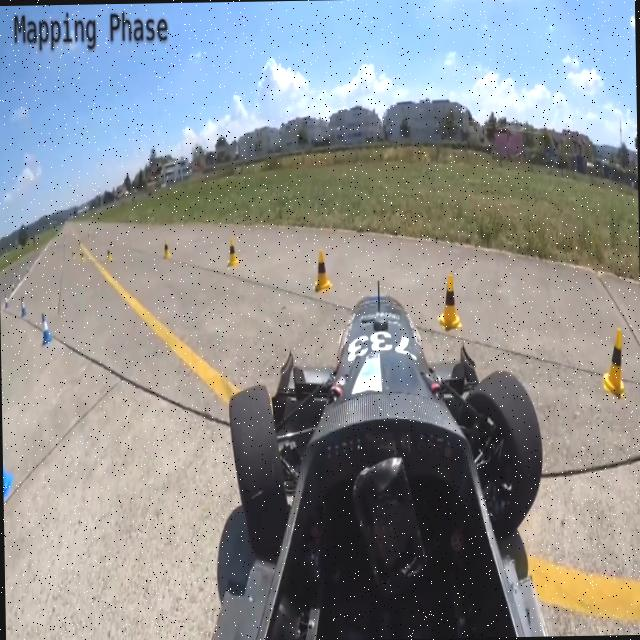yellow_cone: (598, 332, 628, 398), (436, 266, 460, 330), (310, 250, 332, 296), (160, 234, 180, 268), (223, 236, 239, 270)
